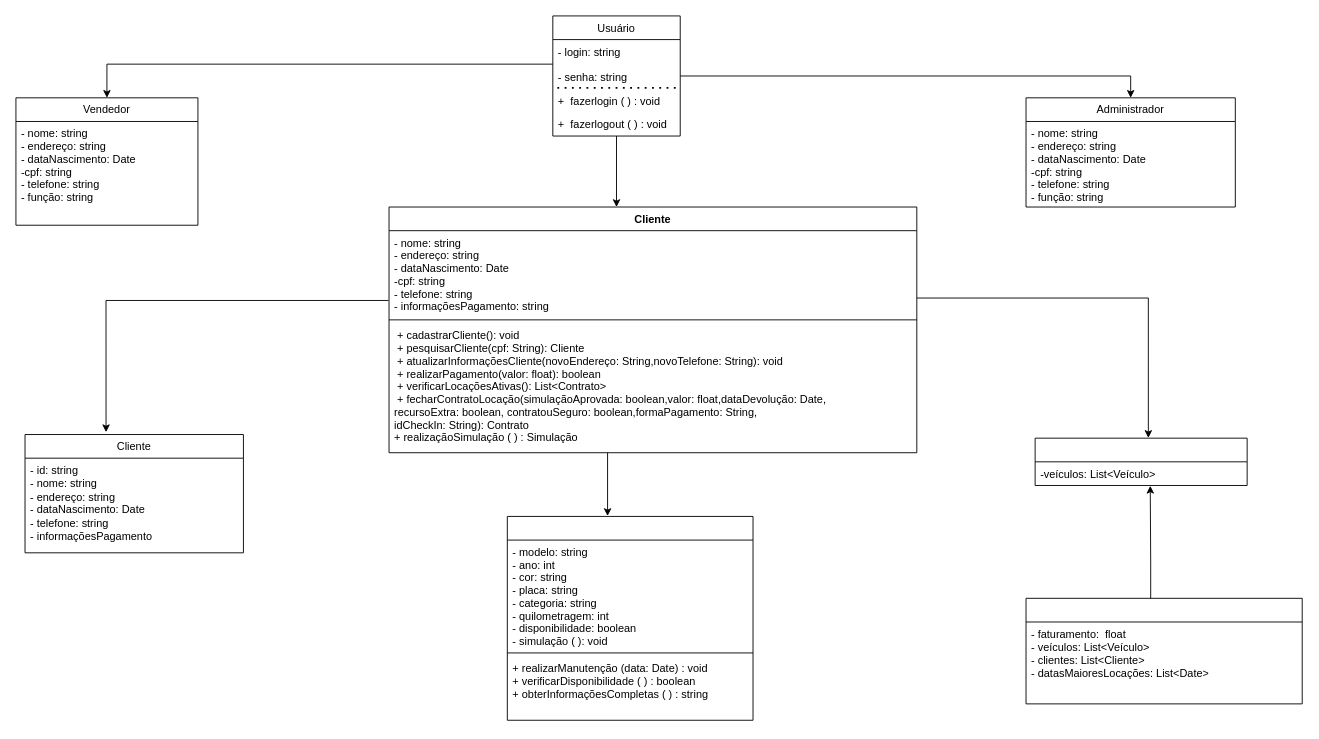
The diagram is 1319 pixels wide and 739 high, and some of its shapes have lost their labels. Here are the shapes that lost their labels. From the top down, the box of each, then its label:
(1034, 437, 1247, 485): Frota
(506, 516, 753, 720): Veículo
(1025, 597, 1302, 704): Relatório
